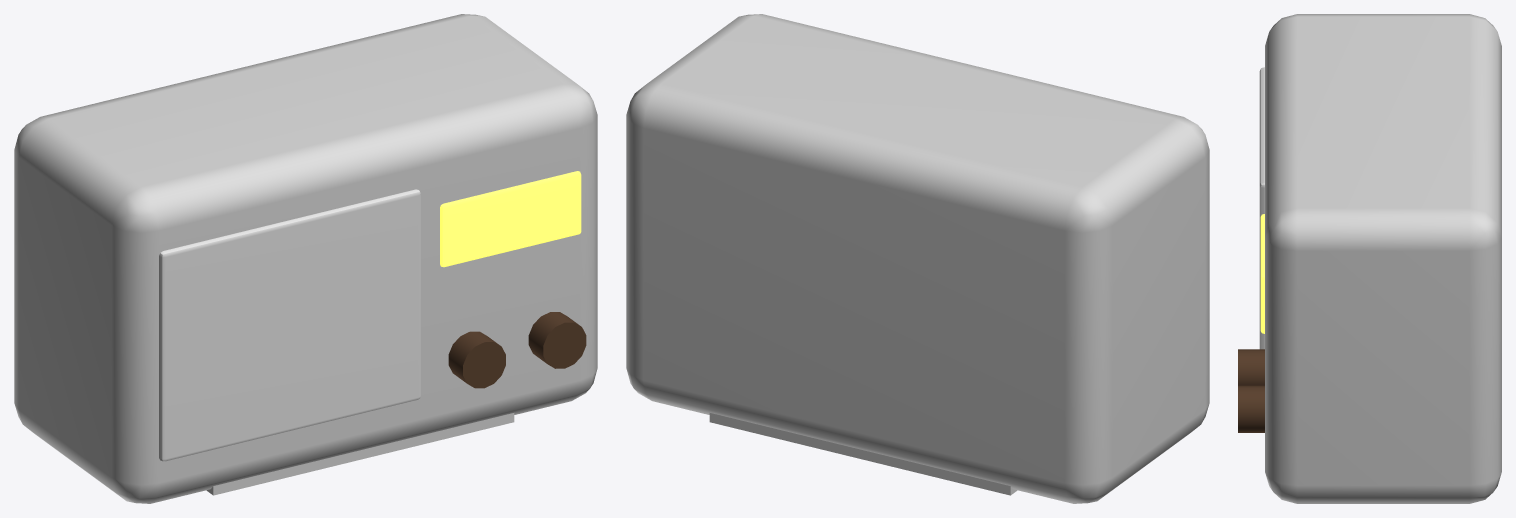
File: SM_Radio_Vintage.fbx
3 views of the same model, side by side, from view 1: azimuth 30°, elevation 25°; view 2: azimuth 150°, elevation 25°; view 3: azimuth 270°, elevation 25° (orthographic). The views are drawn at different scales.
Visible parts, largest first — view 1: SM_Radio_Vintage_1; view 2: SM_Radio_Vintage_1; view 3: SM_Radio_Vintage_1.
Boxes of the visible parts, left/top/right/bottom form: SM_Radio_Vintage_1: left=14, top=14, right=597, bottom=503; SM_Radio_Vintage_1: left=626, top=14, right=1209, bottom=503; SM_Radio_Vintage_1: left=1238, top=14, right=1501, bottom=503.
Size of the model in its own units: 48 by 30 by 24.5.
